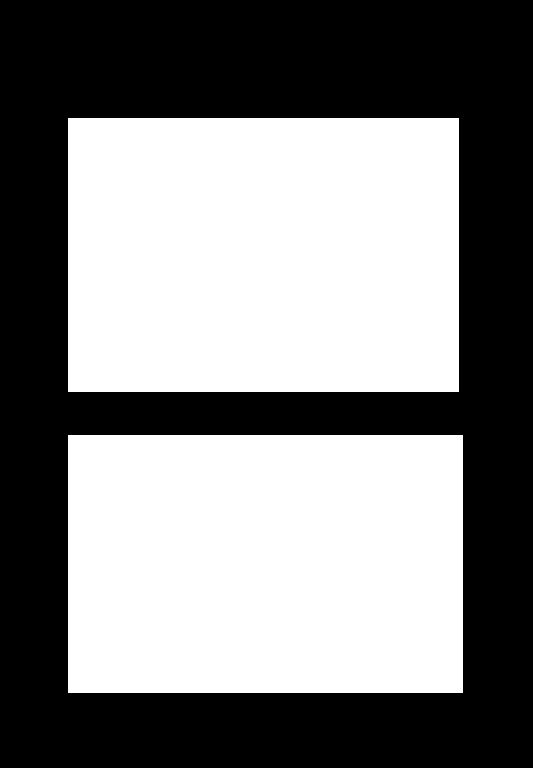table: (68, 118, 458, 391), (68, 435, 462, 692)
